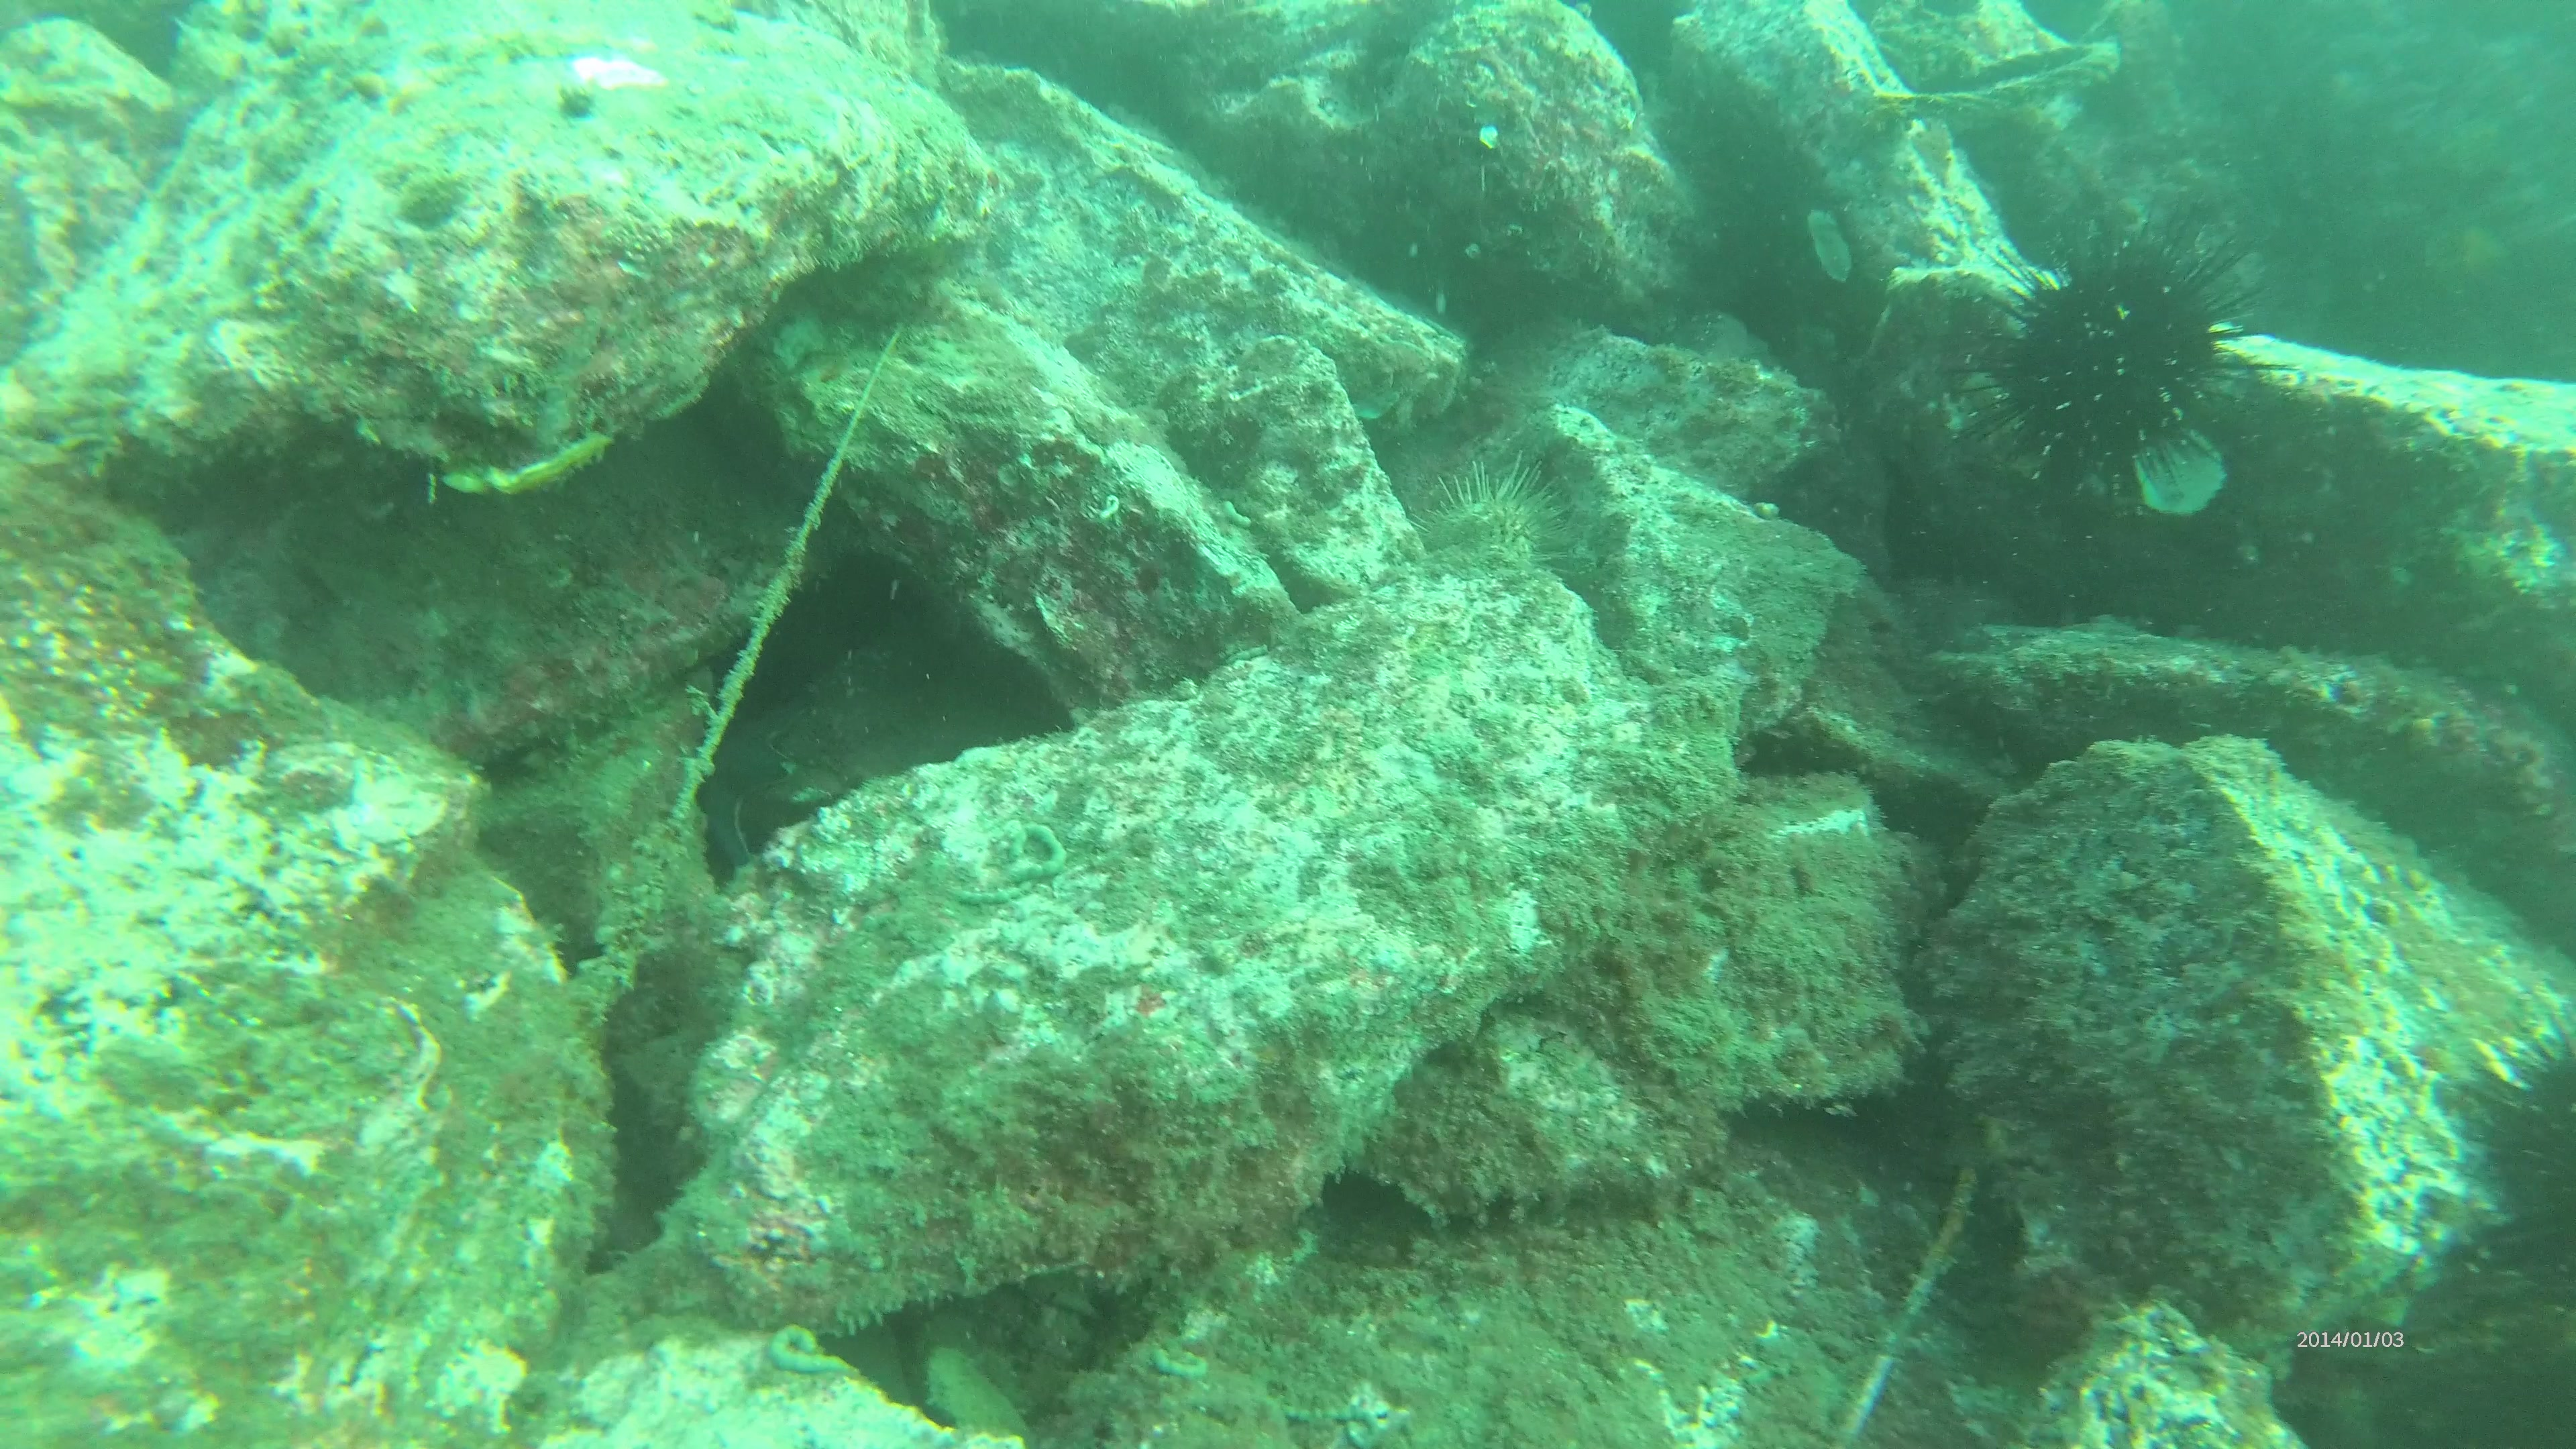echinus: (1982, 223, 2233, 483), (1417, 462, 1562, 571)
